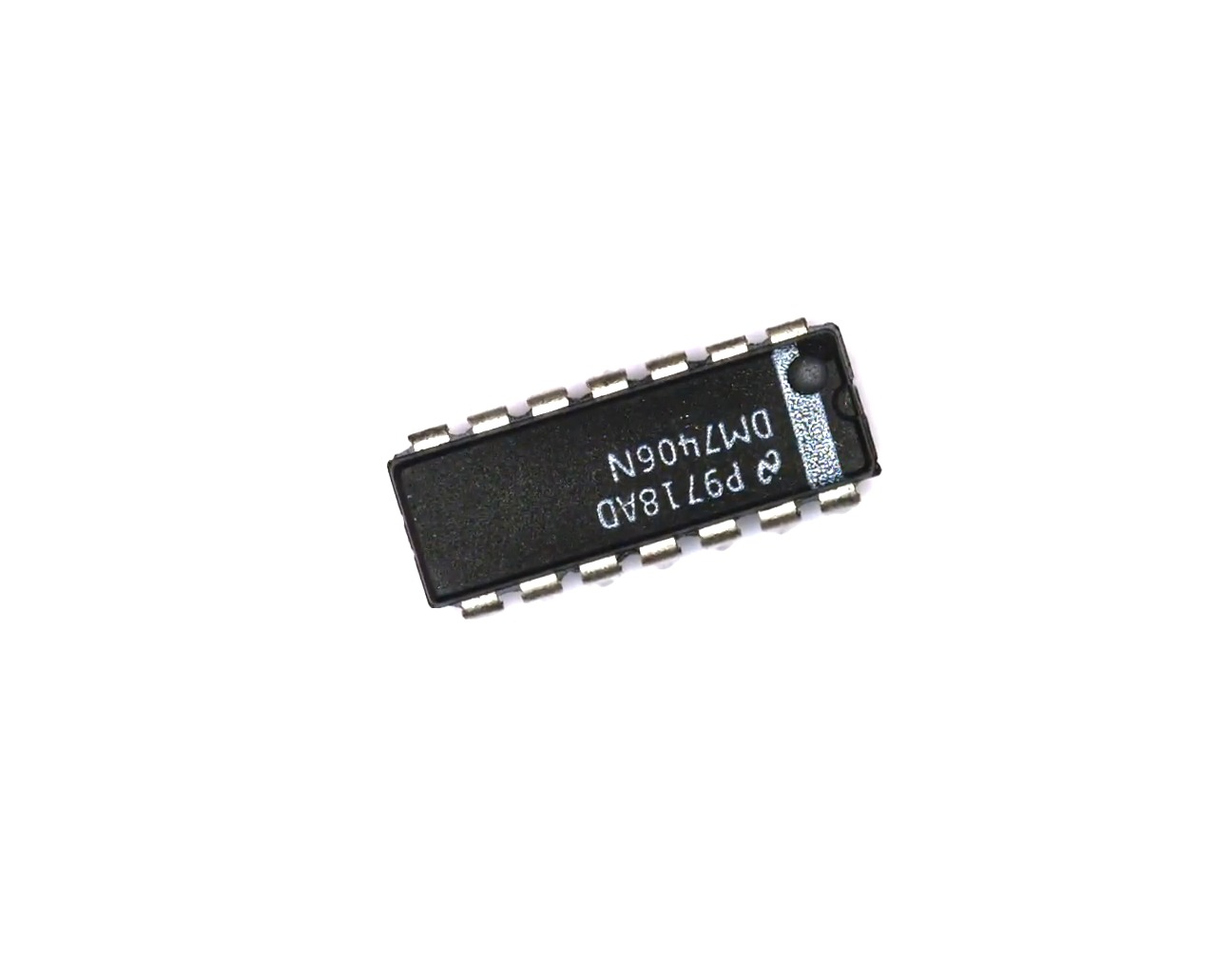IC: (368, 281, 909, 640)
notch: (831, 377, 871, 426)
